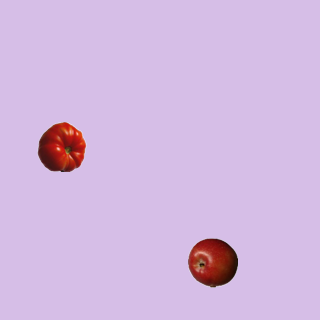Apple Braeburn: (187, 237, 237, 287)
Tomato 3: (36, 121, 86, 171)
